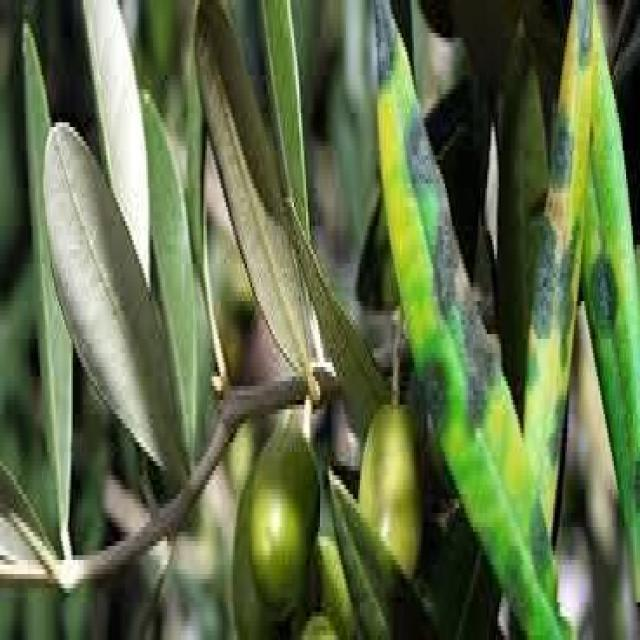OlivePeacockSpot: (377, 4, 553, 636), (523, 0, 591, 554), (582, 4, 638, 602)
